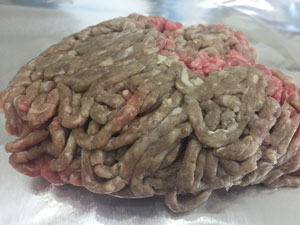ground_beef: (15, 23, 288, 188)
